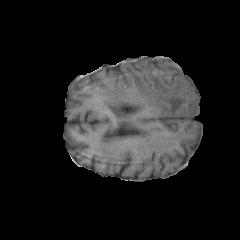glioma: (100, 64, 199, 143)
